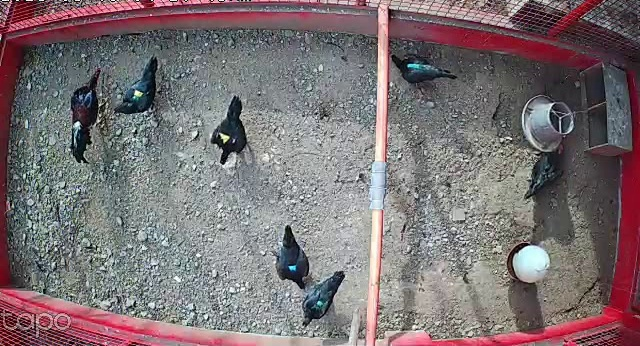Chicken: (113, 51, 164, 118), (298, 260, 346, 329), (209, 92, 250, 167), (388, 51, 459, 88), (274, 225, 313, 292), (524, 142, 566, 198)
Rooster: (67, 65, 114, 165)
Saddle_Color_Blue: (289, 264, 298, 271)
Saddle_Color_Yellow: (217, 131, 237, 143)
Saddle_Color_YellowGreen: (131, 91, 143, 100)
